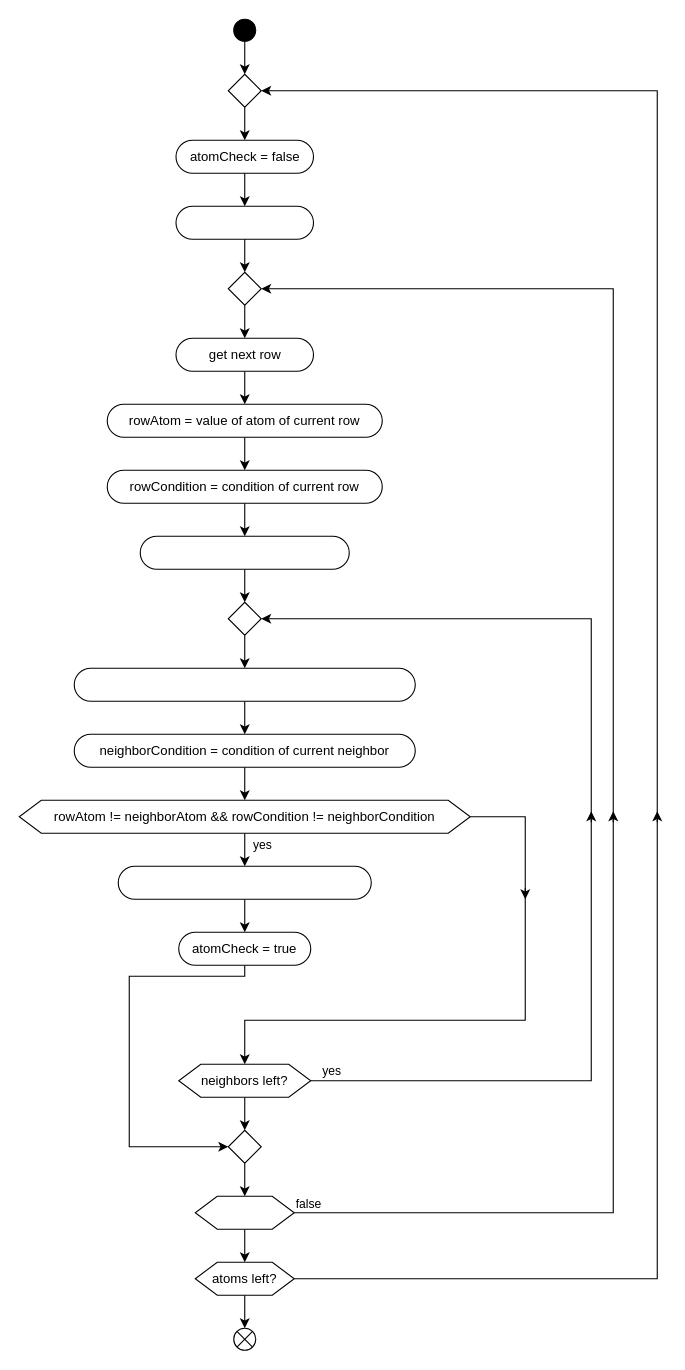
Some shapes in this 685 by 1370 pixel diagram are drawn without their labels. The centre of each missing label's shape, as x and y in pixels:
atomCheck: (x=244, y=1212)
find neighbors of current row: (x=244, y=552)
get next atom: (x=244, y=222)
mark row and neighbor as "significant": (x=244, y=882)
neighborAtom = value of atom at current neighbor: (x=244, y=684)
